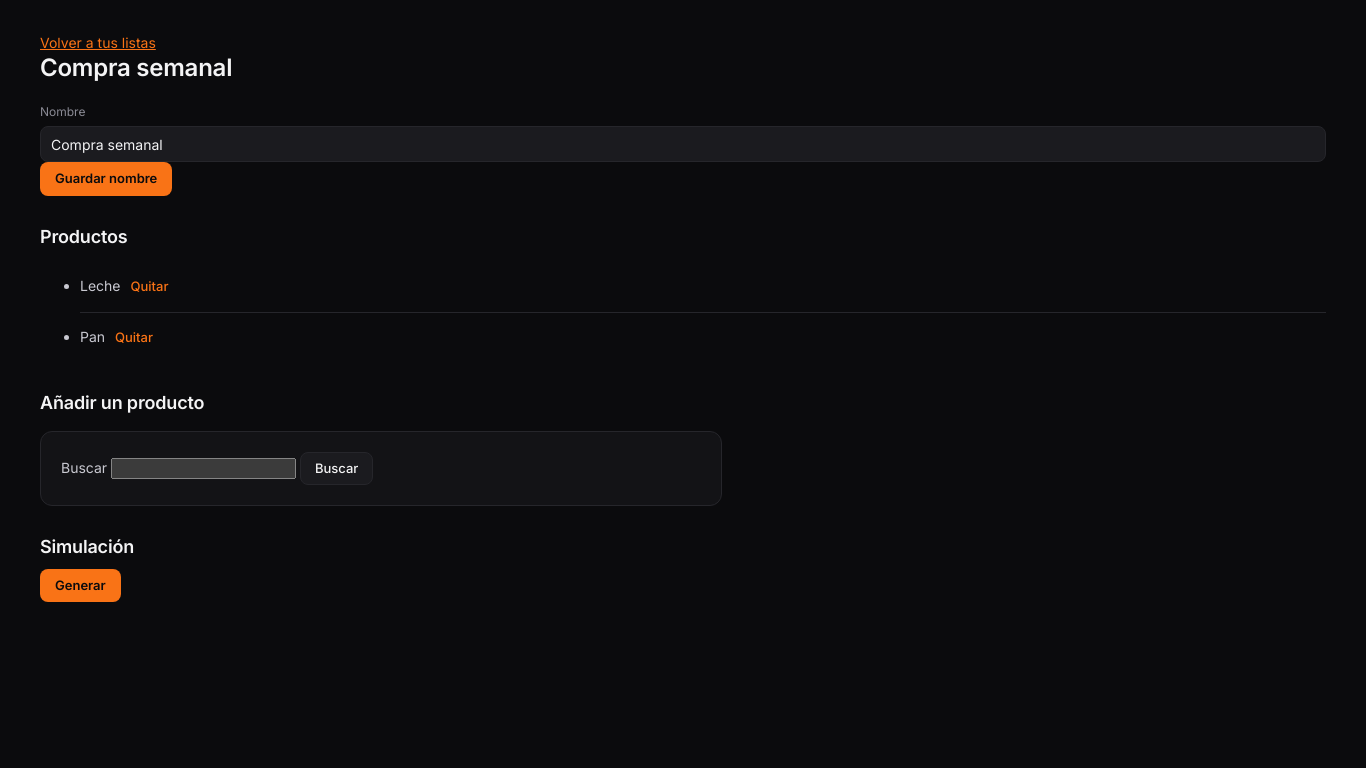
Test: ShoppingListDetailPage › Generar simulación › un producto sin datos de precio muestra el aviso y no cuenta en los totales
Expected: the list item "Leche" is shown, x1=80 y1=277 x2=120 y2=294
Click the button "Generar" at (80, 586), box x1=40 y1=569 x2=121 y2=602
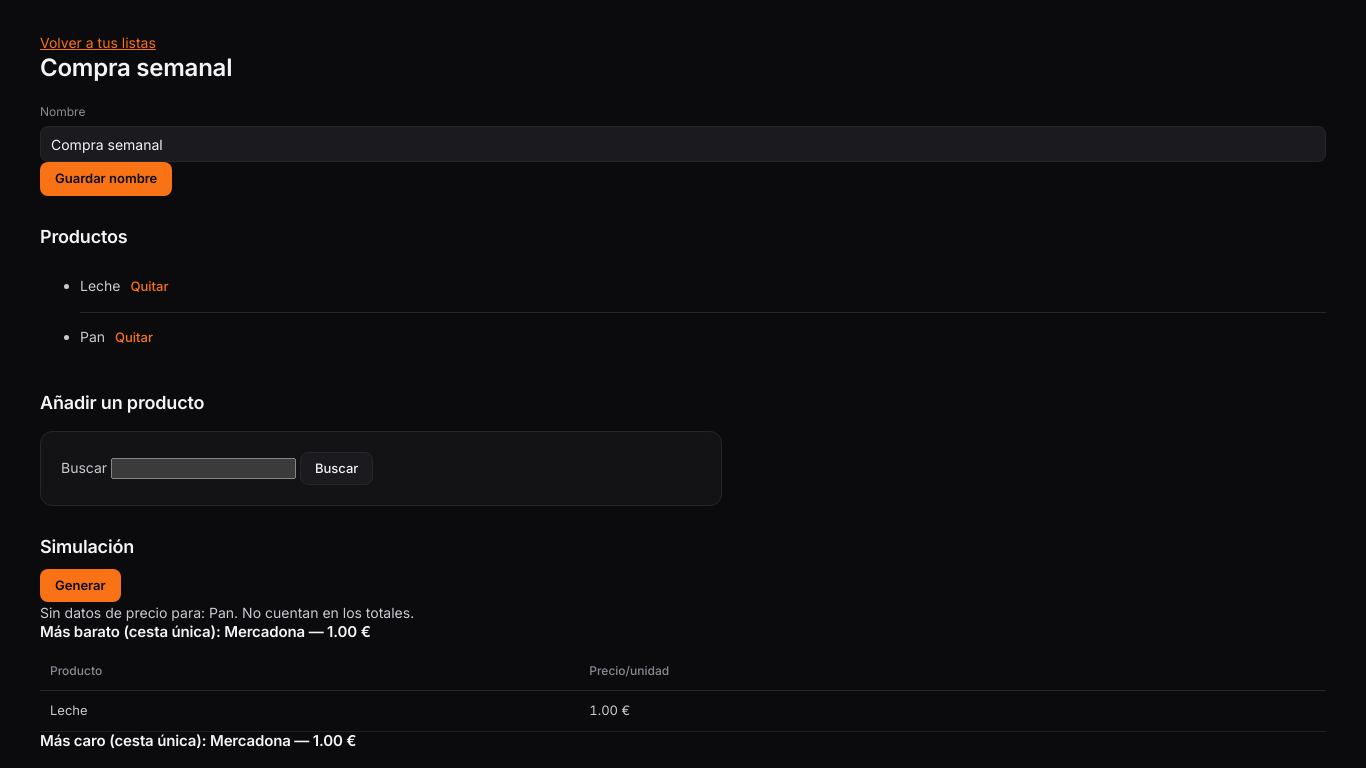
Expected: the text "Sin datos de precio para: Pan. No cuentan en los totales." is shown, x1=40 y1=604 x2=414 y2=622
Expected: the heading "Más barato (cesta única): Mercadona — 1.00 €" is shown, x1=40 y1=622 x2=371 y2=642
